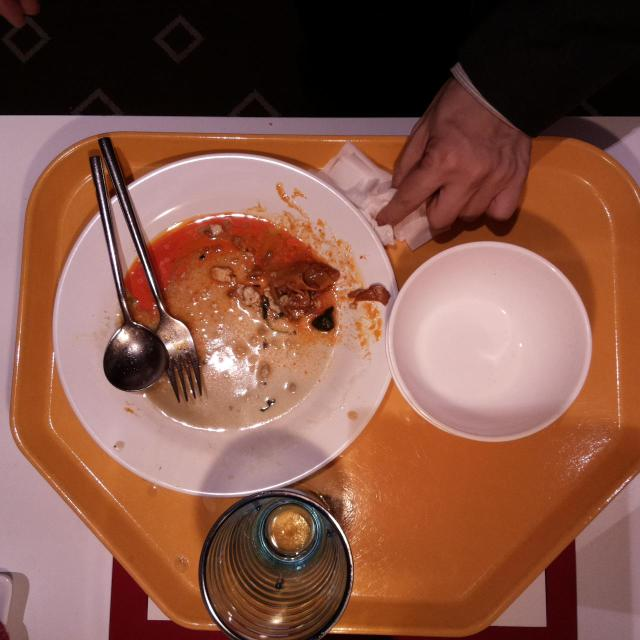Meat: (269, 262, 341, 323)
